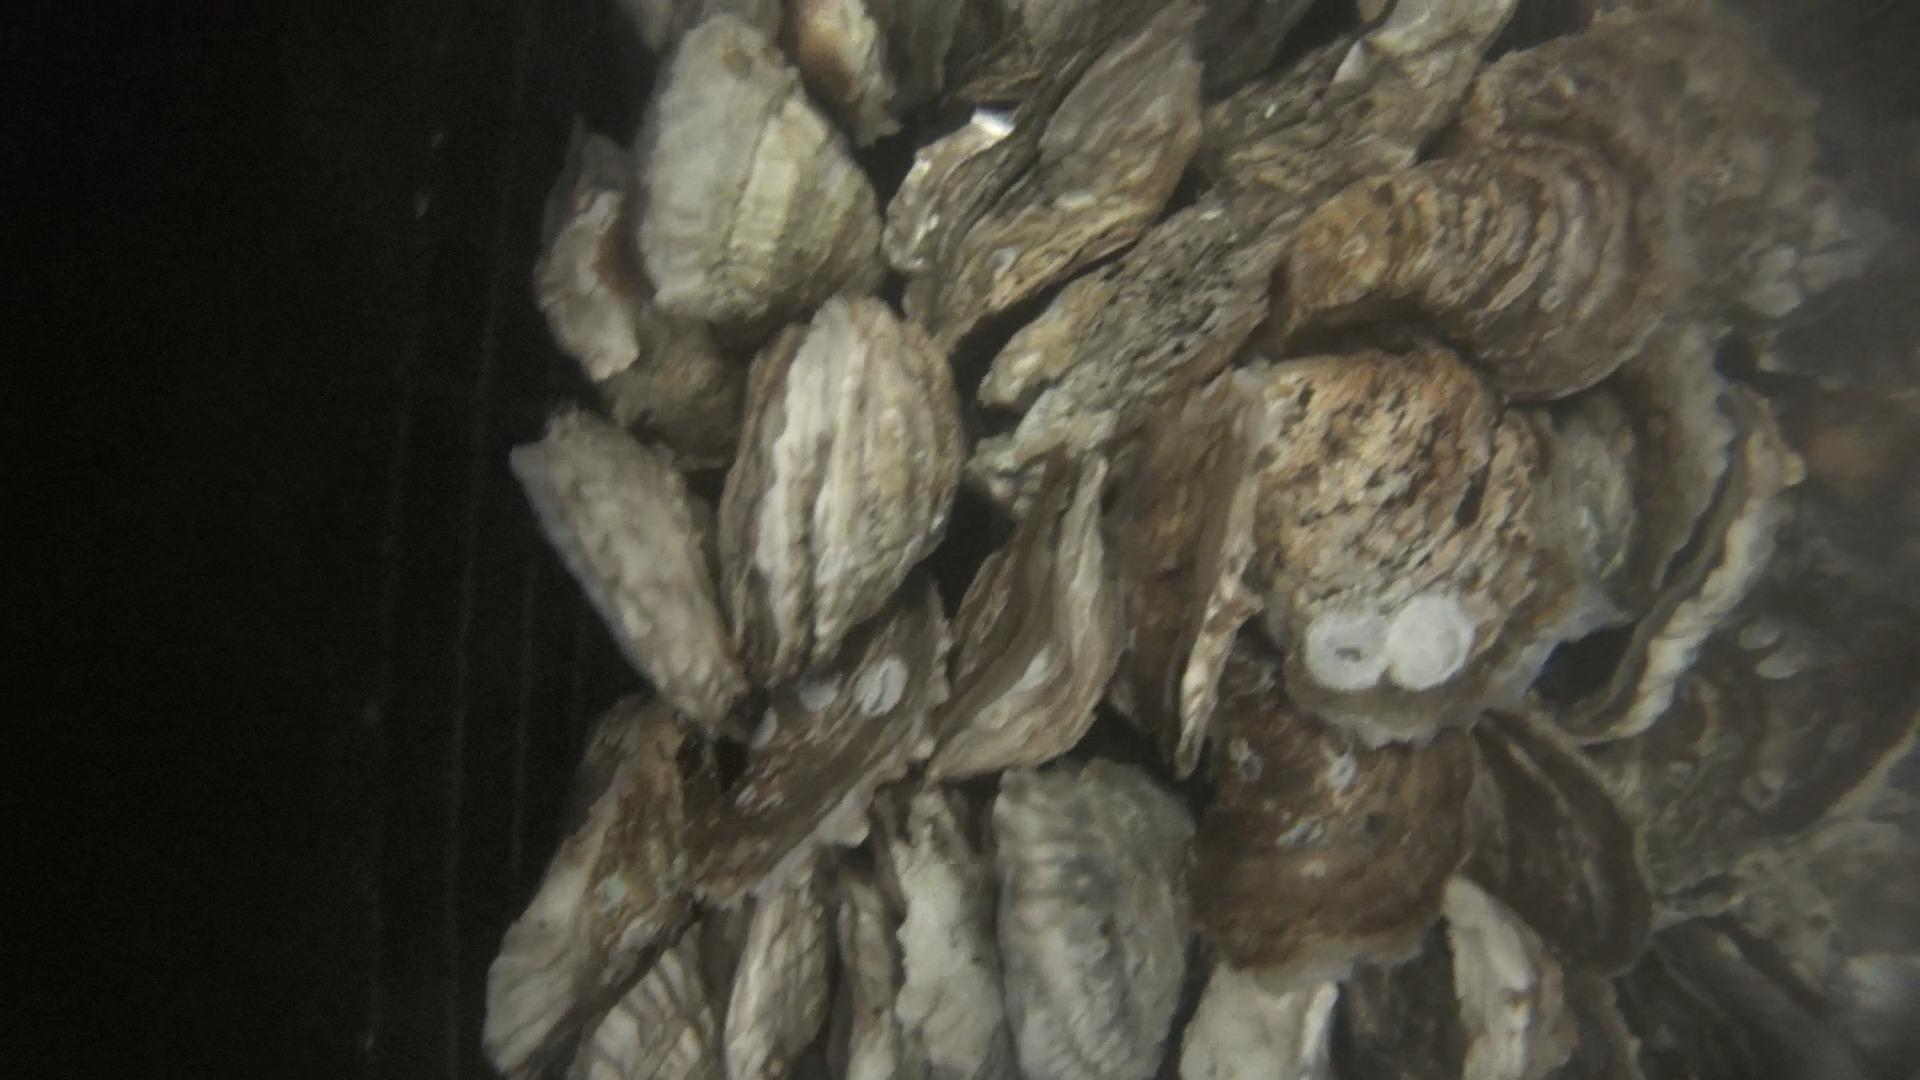3: (1255, 347, 1638, 745), (717, 294, 965, 687), (1192, 640, 1476, 982), (928, 0, 1203, 344), (1567, 384, 1808, 742), (692, 587, 947, 902), (927, 450, 1126, 781), (992, 758, 1195, 1080), (1112, 361, 1266, 778), (1470, 712, 1654, 976), (878, 786, 1014, 1080), (882, 105, 1015, 272), (1618, 947, 1770, 1080), (837, 866, 899, 1080), (1561, 971, 1648, 1080)
Oyster-Closed: (483, 698, 695, 1077), (509, 407, 746, 731), (1407, 876, 1578, 1080), (696, 851, 836, 1080)
Oyster-Open: (969, 0, 1514, 509), (1447, 1, 1840, 309), (1270, 136, 1660, 397), (636, 13, 881, 335), (533, 120, 742, 463), (567, 924, 721, 1080)
